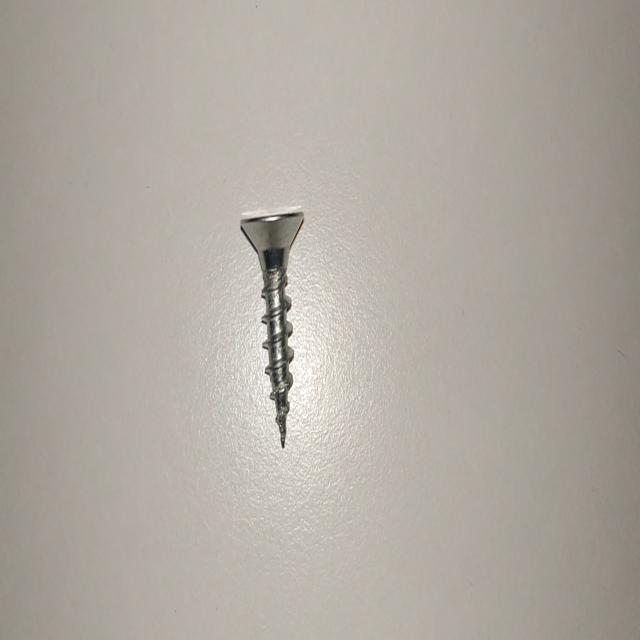Screw: (241, 209, 304, 447)
